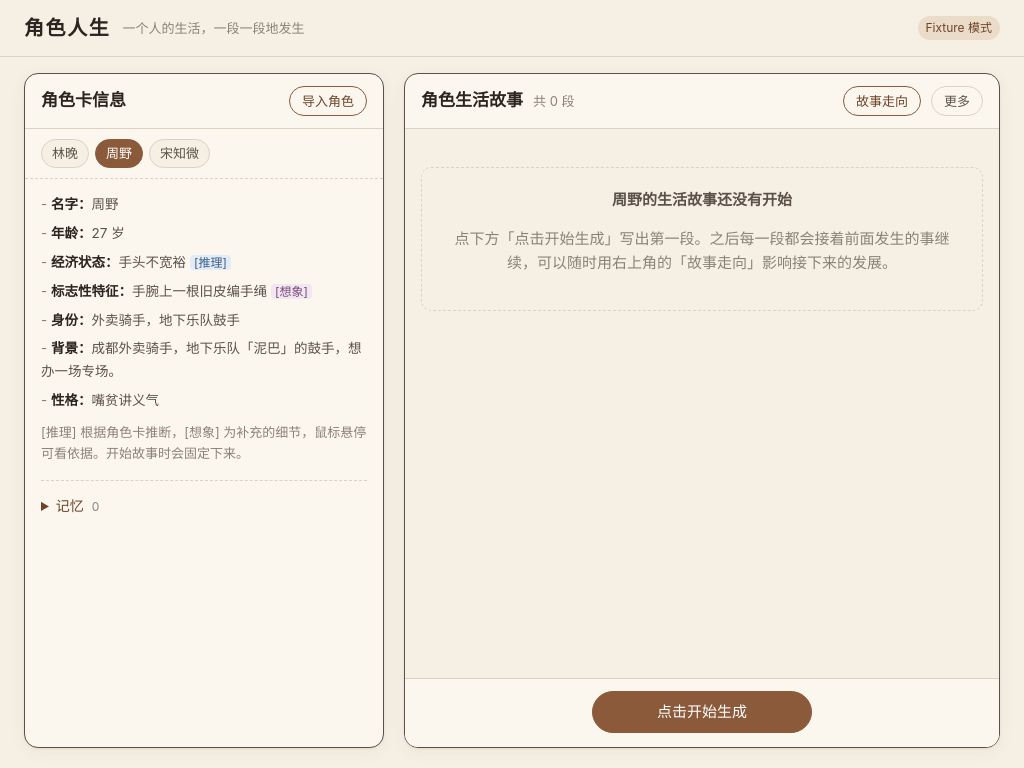
Test case: Import dialog › validates a pasted description locally before sending
The width and height of the screenshot is (1024, 768).
Click the button "导入角色" at (328, 101), box [289,86,367,116]
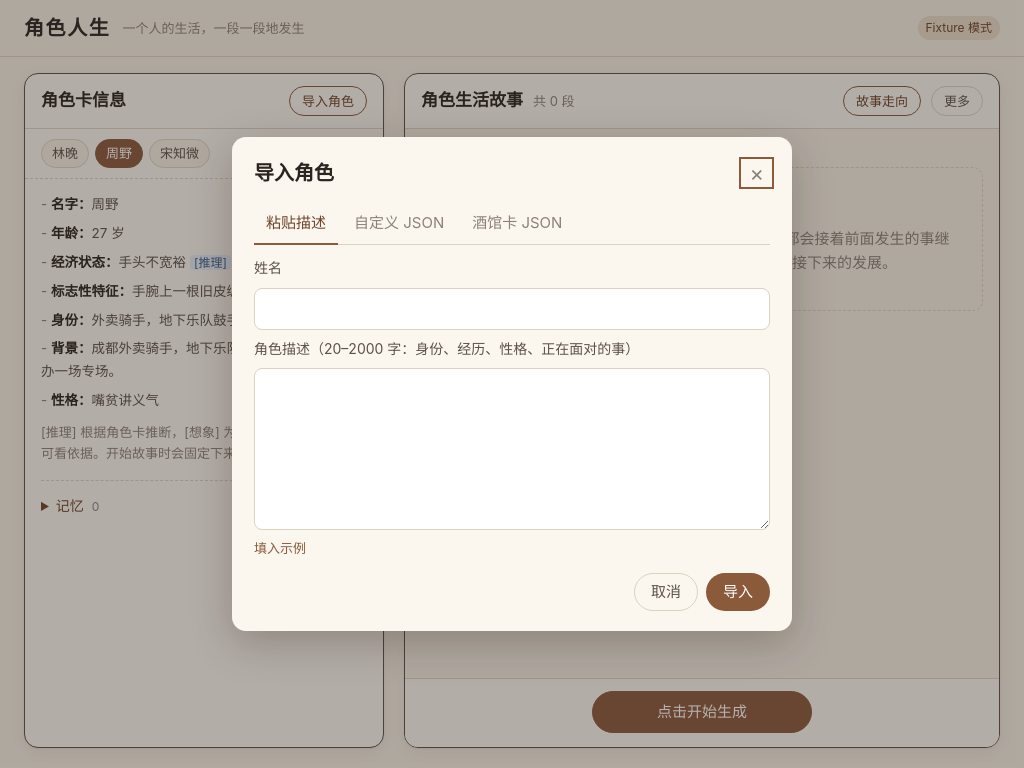
Type "太短" into the text box labelled "角色描述（20–2000 字：身份、经历、性格、正在面对的事）" at (512, 449), box [254,368,770,530]
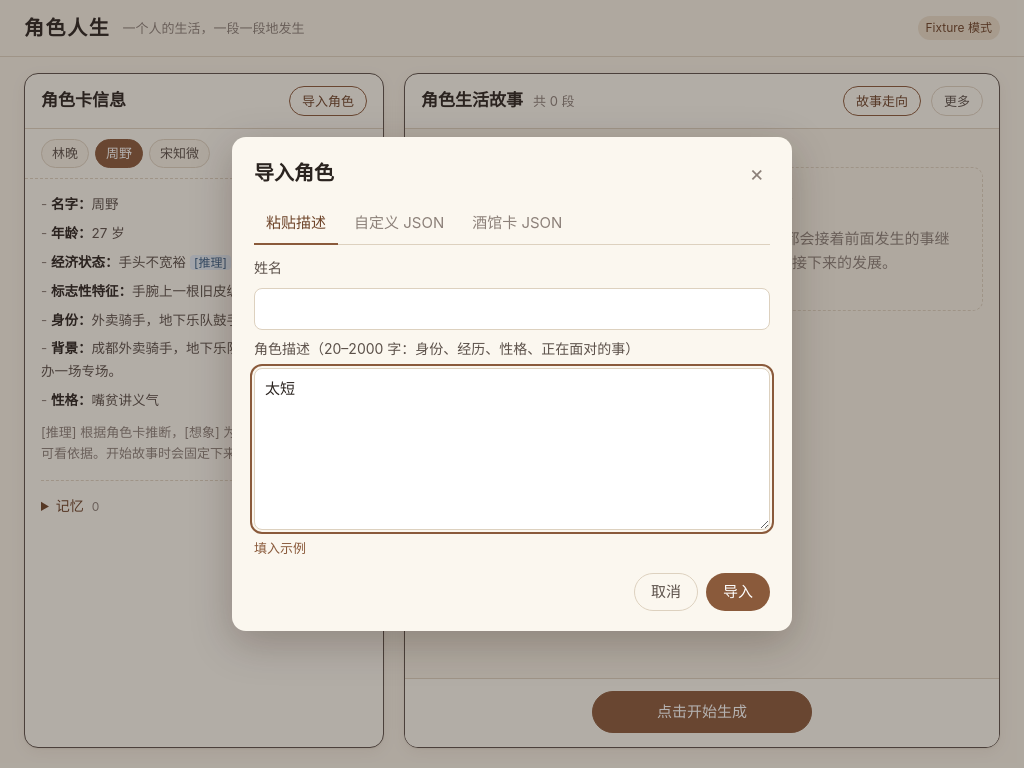
Click the button "导入" at (738, 592), box [706,573,770,611]
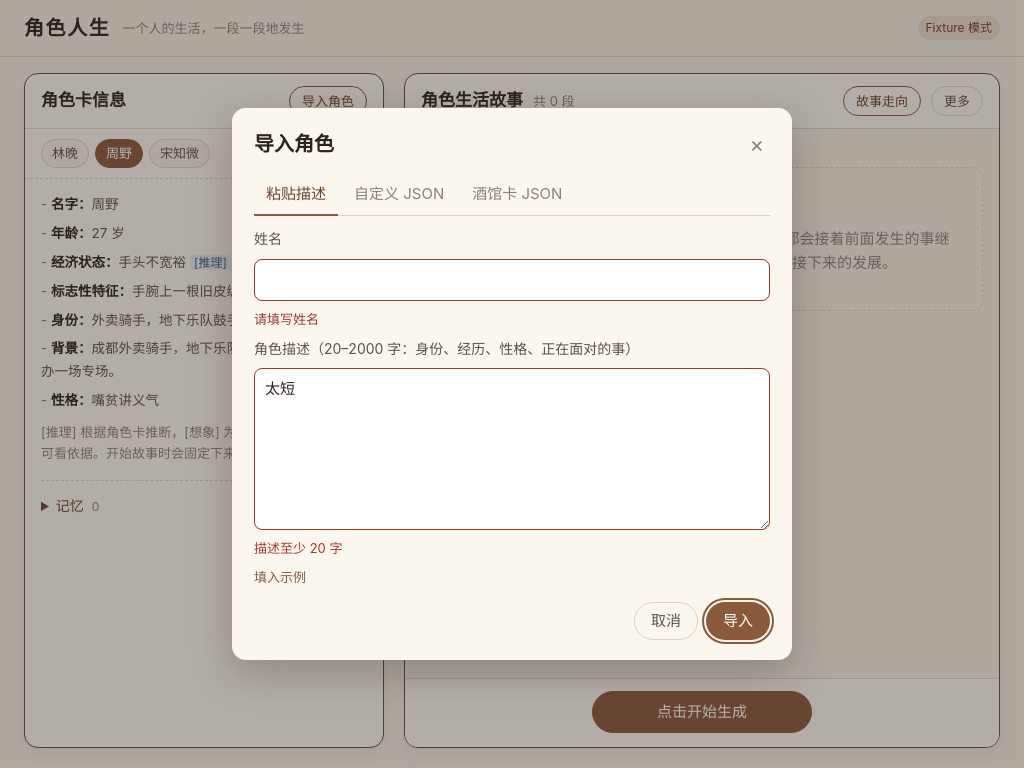
Check: the text "请填写姓名" is shown, box [254,311,319,327]
Check: the text "描述至少 20 字" is shown, box [254,540,342,556]
